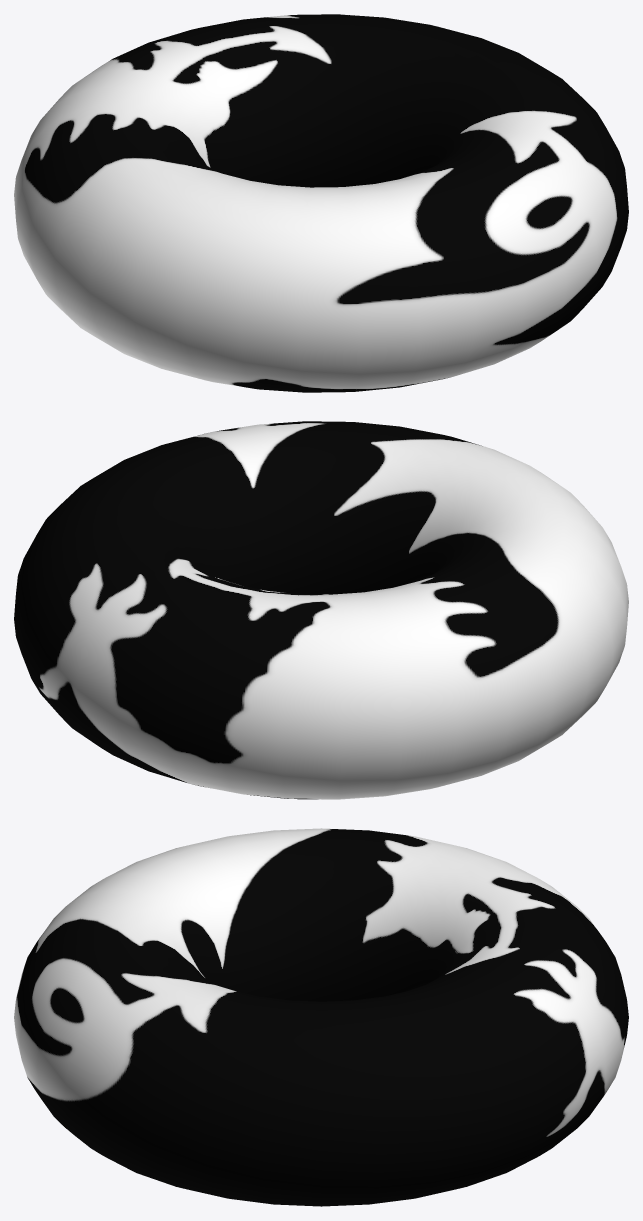
File: torus_multi.obj
The picture shows the model from 3 angles, top to bottom: view 1: azimuth 30°, elevation 25°; view 2: azimuth 150°, elevation 25°; view 3: azimuth 270°, elevation 25°; orthographic projection.
Size of the model in its own units: 3 by 1 by 3.
